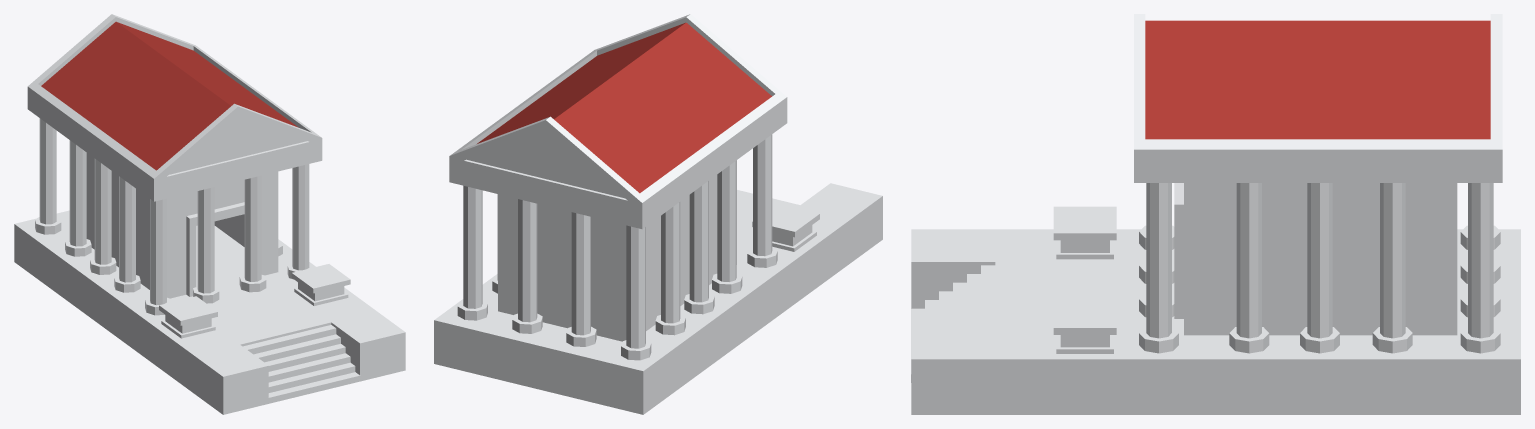
File: Tenple.fbx
3 renders of one model, left to right at view 1: azimuth 30°, elevation 25°; view 2: azimuth 150°, elevation 25°; view 3: azimuth 270°, elevation 25°, orthographic. The views are drawn at different scales.
Visible parts, largest first — view 1: Tenple; view 2: Tenple; view 3: Tenple.
Part boxes in pixels (x1,y1,x2,y2): Tenple: [14, 14, 405, 414]; Tenple: [434, 14, 882, 414]; Tenple: [911, 14, 1520, 414].
Bounding box in the file's own units: 2049 × 2472 × 4066.
